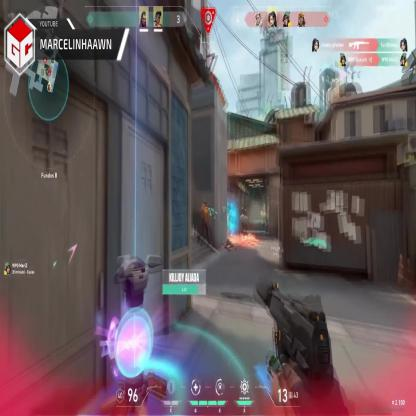enemy: (199, 200, 210, 246)
enemy_head: (203, 201, 206, 207)
